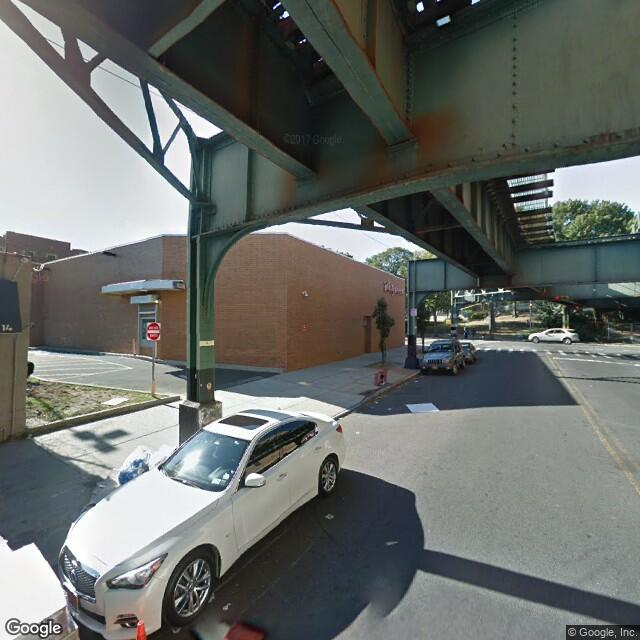litter: (407, 401, 440, 413), (325, 513, 333, 519), (413, 377, 419, 383), (388, 406, 392, 409)
